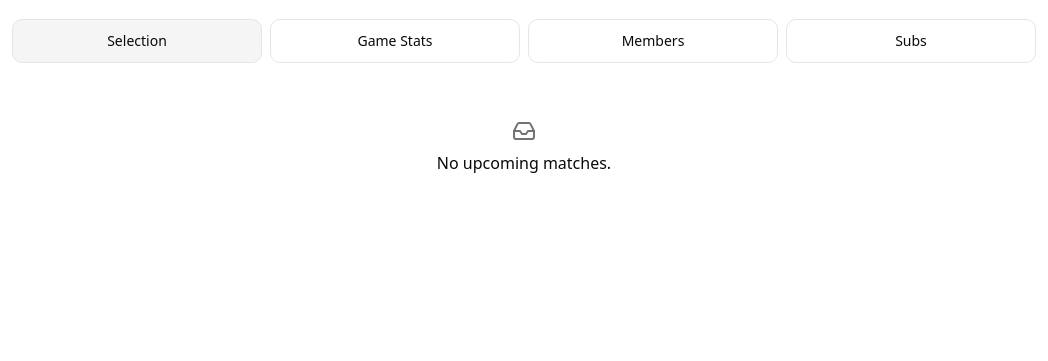
Game Stats view (S17.2 AC2, AC3) › lists kicked-off matches, most recent first, each linking to its collection screen
What coordinates should you click on to do the following:
click the radio button labelled "Game Stats"
I would click on:
 (395, 41)
Its box is [270, 19, 520, 63].
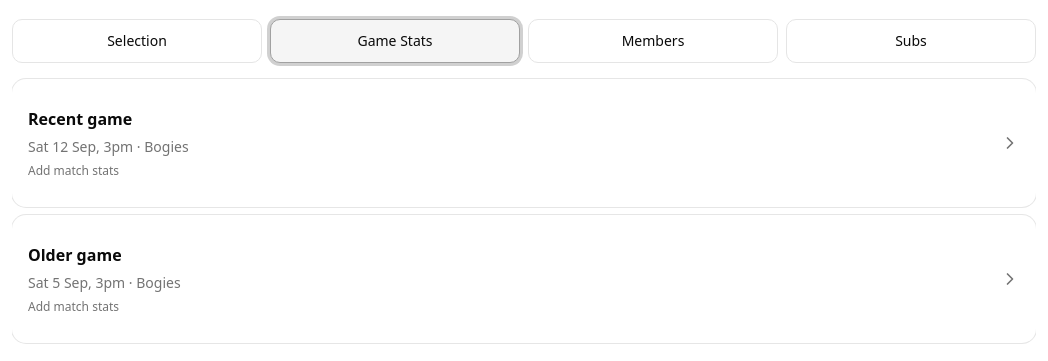
Expected: the number of list items is 2, [12, 79, 1036, 207]; [12, 215, 1036, 343]
